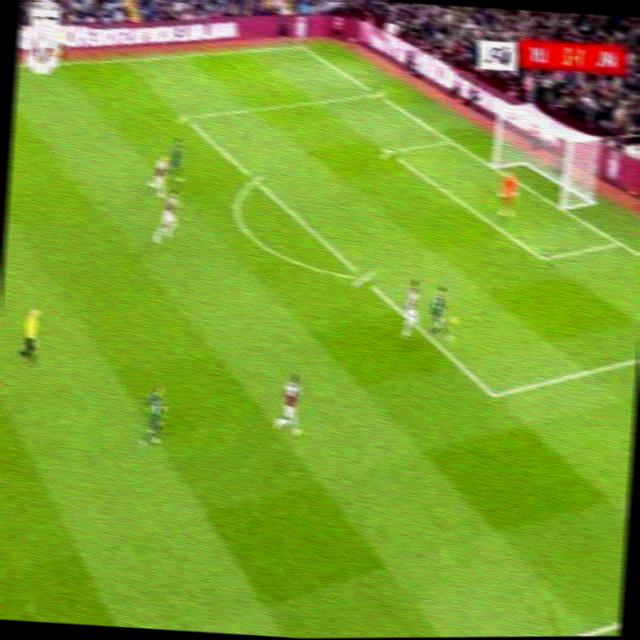bigarea_bottom_inner: (483, 380, 506, 407)
bigarea_top_inner: (178, 105, 195, 125)
bigarea_top_outter: (369, 84, 386, 101)
bottom_arc_area_intersection: (352, 264, 375, 288)
corner: (290, 37, 308, 52)
smallarea_bottom_inner: (534, 243, 556, 270)
smallarea_bottom_outter: (610, 229, 630, 250)
smallarea_top_inner: (380, 140, 400, 160)
smallarea_top_outter: (444, 131, 461, 150)
top_arc_area_intersection: (247, 169, 264, 188)
